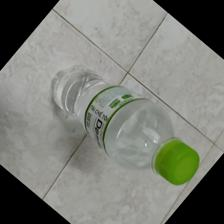Dasani: (50, 62, 201, 189)
